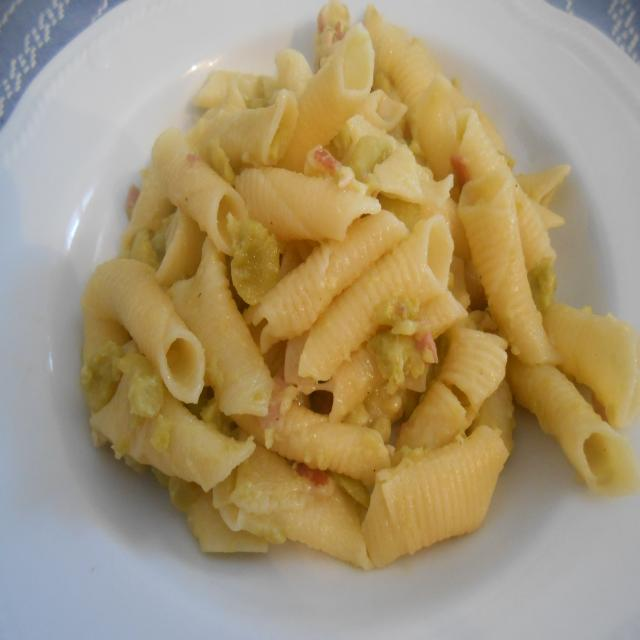Oil pasta: (94, 15, 640, 601)
